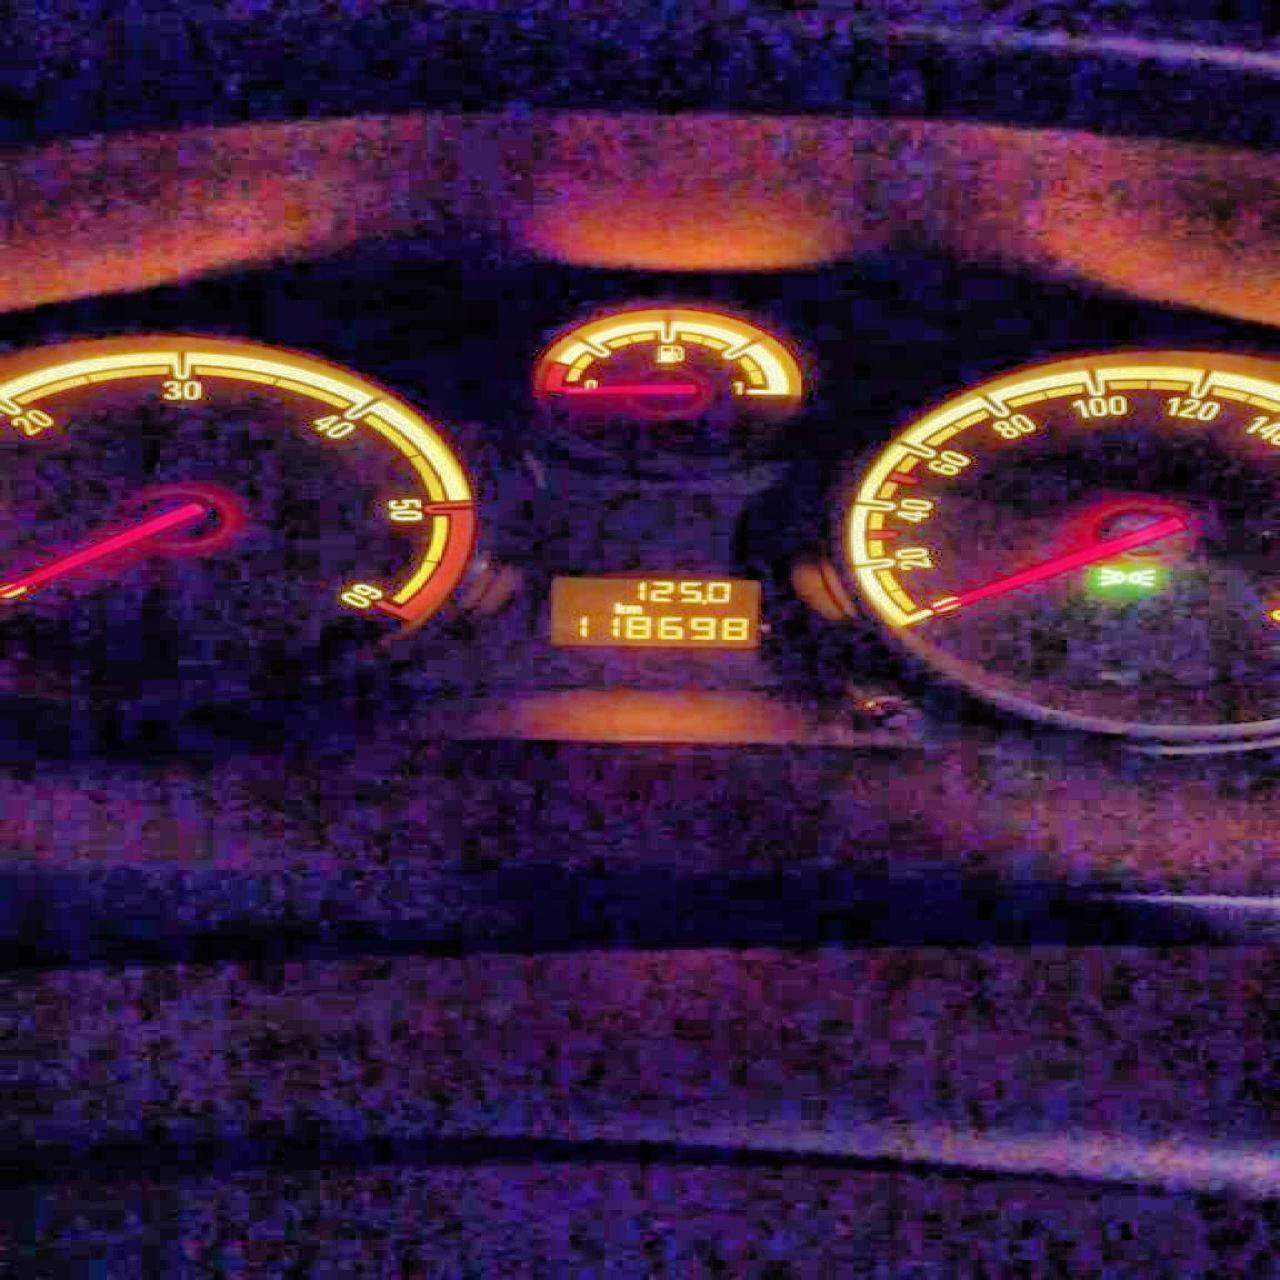-: (697, 598, 704, 605)
0: (702, 580, 729, 602)
1: (573, 613, 588, 638), (607, 613, 620, 638), (633, 579, 647, 600)
2: (647, 580, 673, 601)
5: (675, 580, 700, 602)
6: (655, 615, 682, 640)
8: (622, 614, 651, 640), (720, 617, 749, 640)
9: (685, 615, 715, 640)
X: (625, 604, 642, 614), (611, 600, 625, 612)
odometer: (542, 574, 762, 651)
